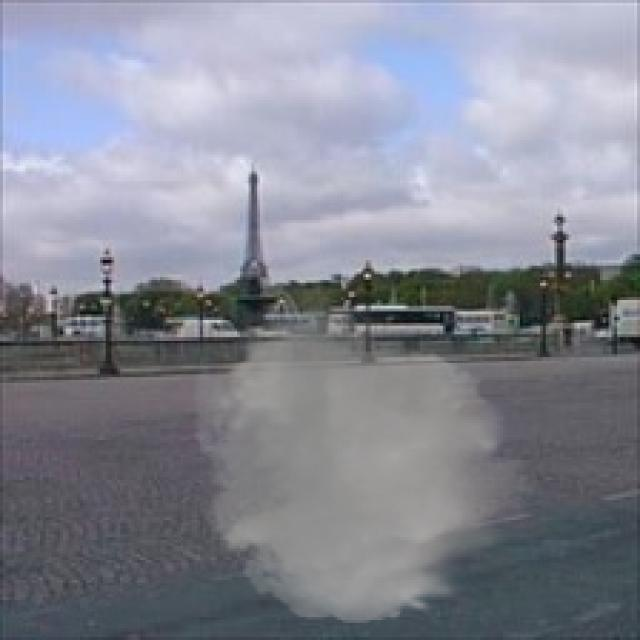smoke: (177, 283, 549, 631)
